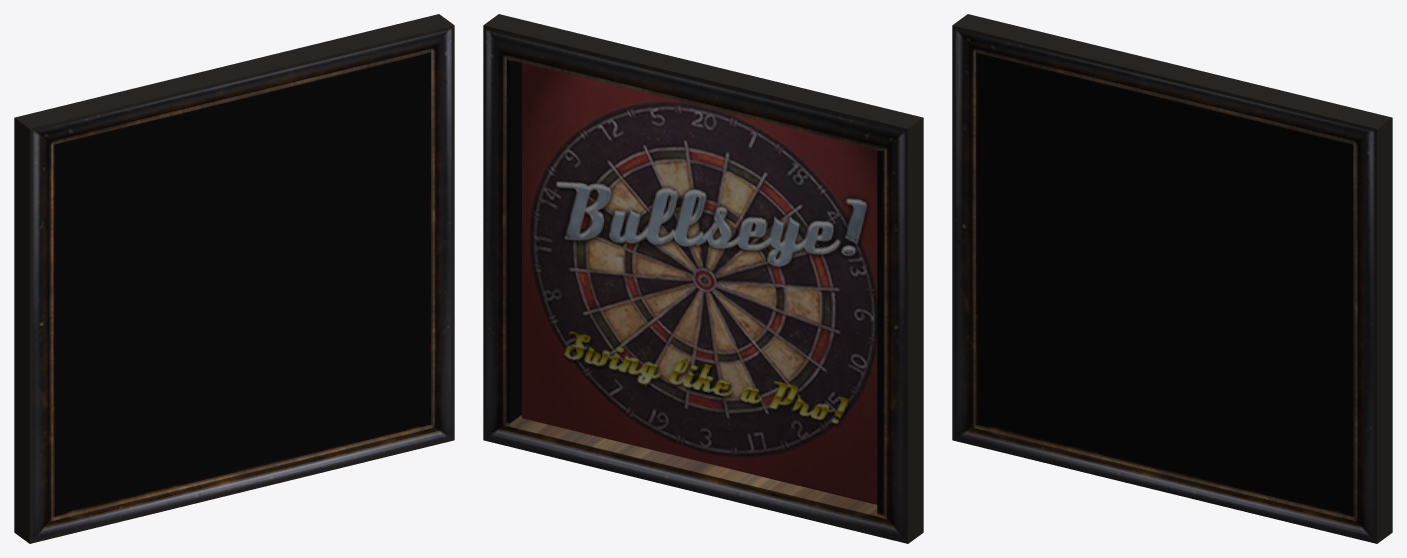
Rendered from P_Pics01.fbx.
3 renders of one model, left to right at view 1: azimuth 30°, elevation 25°; view 2: azimuth 150°, elevation 25°; view 3: azimuth 330°, elevation 25°, orthographic.
Visible parts, largest first — view 1: Empty_Mesh; view 2: Empty_Mesh; view 3: Empty_Mesh.
Boxes of the visible parts, bbox=[...] form: Empty_Mesh: bbox=[14, 14, 454, 543]; Empty_Mesh: bbox=[483, 14, 923, 543]; Empty_Mesh: bbox=[952, 14, 1392, 543].
Bounding box in the file's own units: 1.16 × 1.09 × 0.0738.
